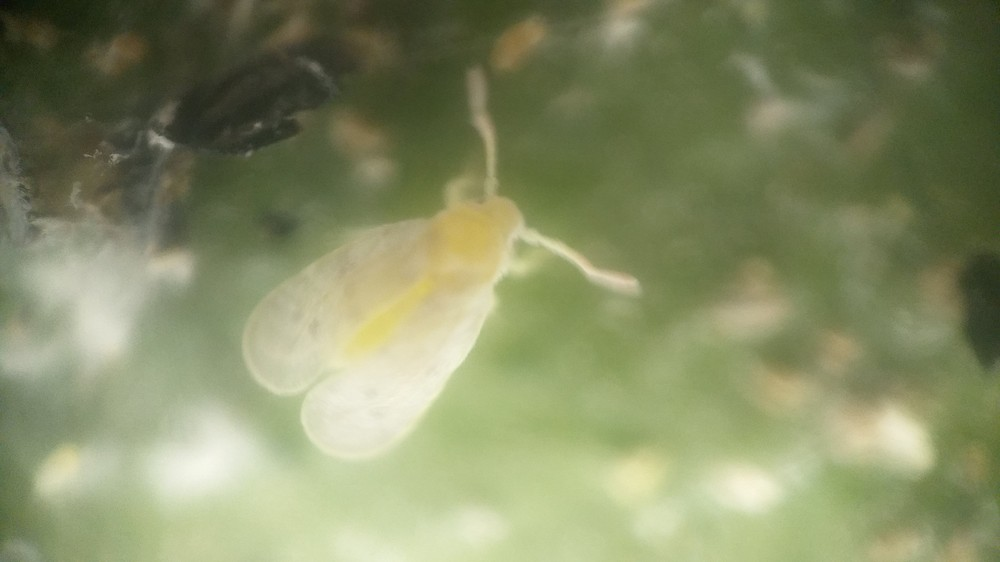Mosca Blanca: (215, 63, 670, 497)
